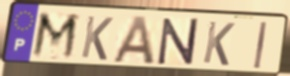A: (110, 14, 157, 66)
I: (252, 20, 269, 71)
K: (200, 20, 237, 68), (79, 14, 115, 63)
M: (28, 11, 82, 63)
N: (156, 17, 200, 67)
